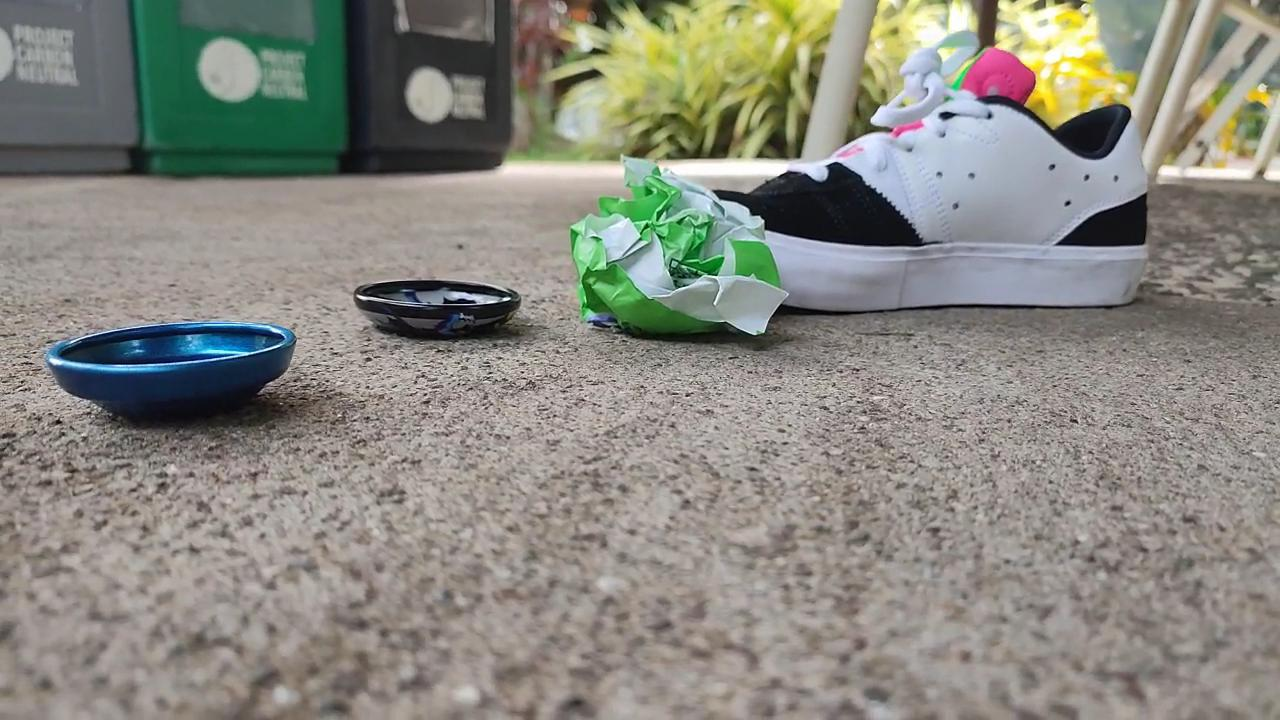Paper: (551, 134, 798, 359)
